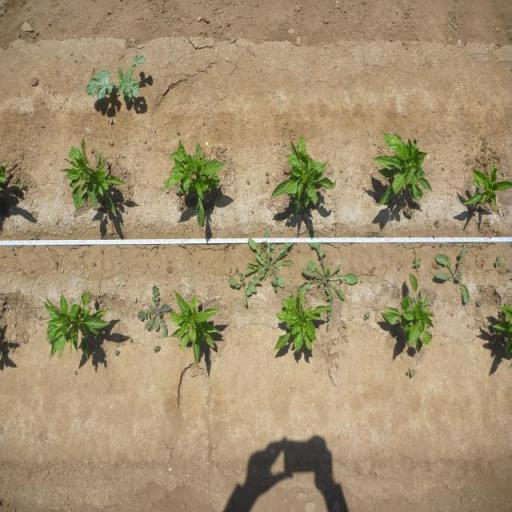plant: (159, 139, 230, 230), (59, 132, 129, 222), (269, 134, 338, 220), (369, 127, 433, 214), (40, 288, 110, 362), (170, 286, 220, 371), (378, 271, 433, 348), (270, 289, 326, 358), (458, 156, 512, 215), (491, 300, 512, 358)
weed: (299, 227, 360, 333), (82, 52, 148, 106), (244, 228, 294, 296), (432, 244, 470, 304), (136, 278, 170, 339), (227, 271, 247, 311), (409, 255, 423, 268), (404, 366, 418, 378), (494, 254, 504, 268), (16, 180, 26, 190), (30, 210, 40, 220), (152, 345, 162, 354), (363, 310, 371, 321), (52, 257, 58, 268), (174, 184, 180, 194), (476, 300, 483, 308), (91, 260, 97, 268), (246, 178, 252, 185), (264, 170, 270, 177), (114, 349, 120, 356), (175, 128, 180, 135), (73, 368, 78, 375), (265, 178, 270, 184), (178, 204, 183, 209), (130, 337, 132, 343)
